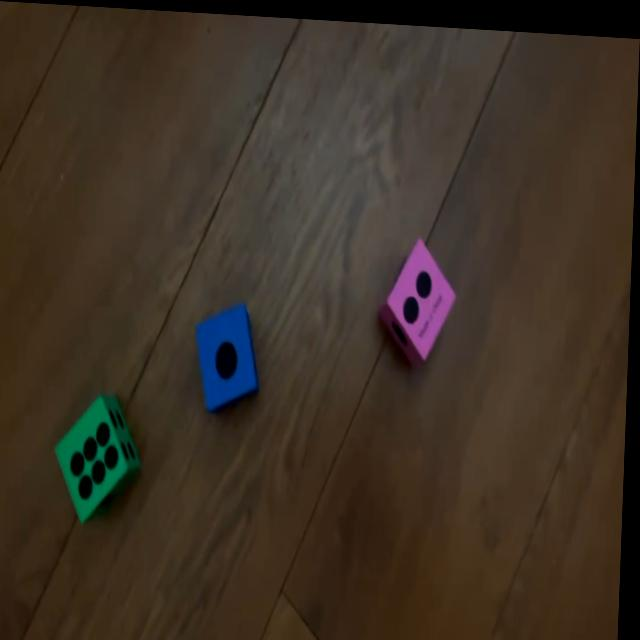blue_block: (196, 298, 265, 407)
